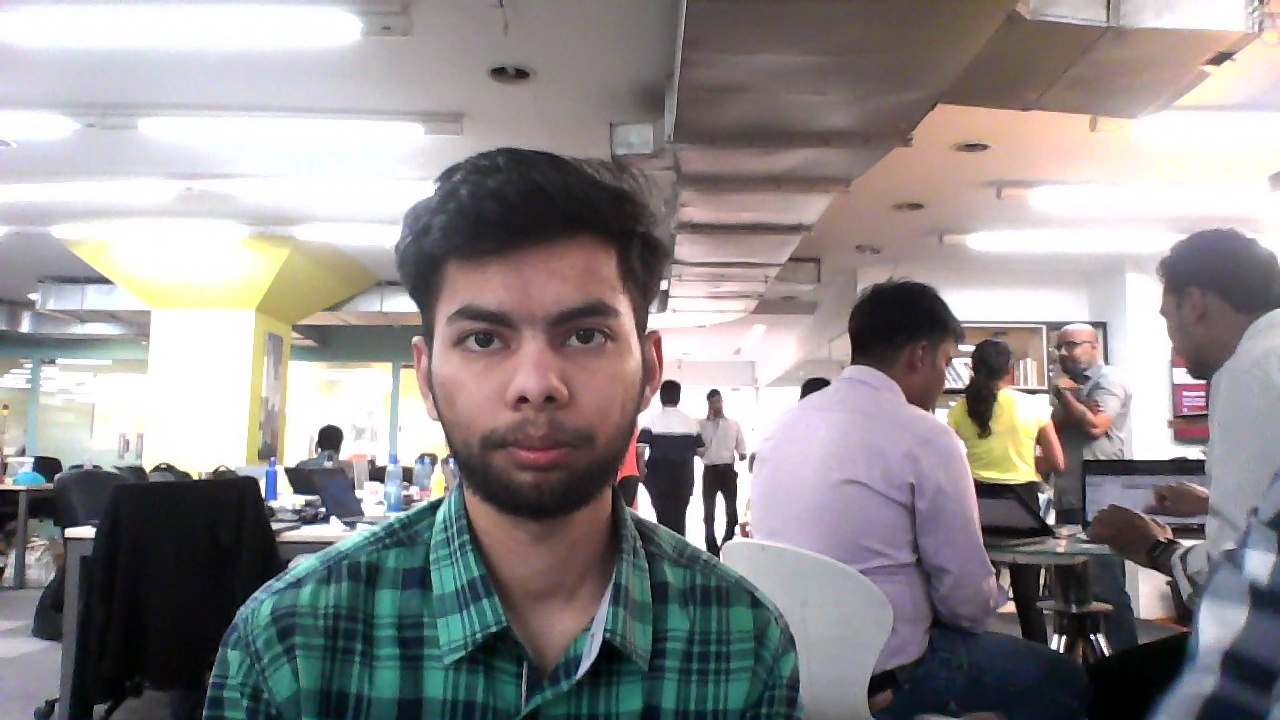open: (397, 141, 676, 528)
